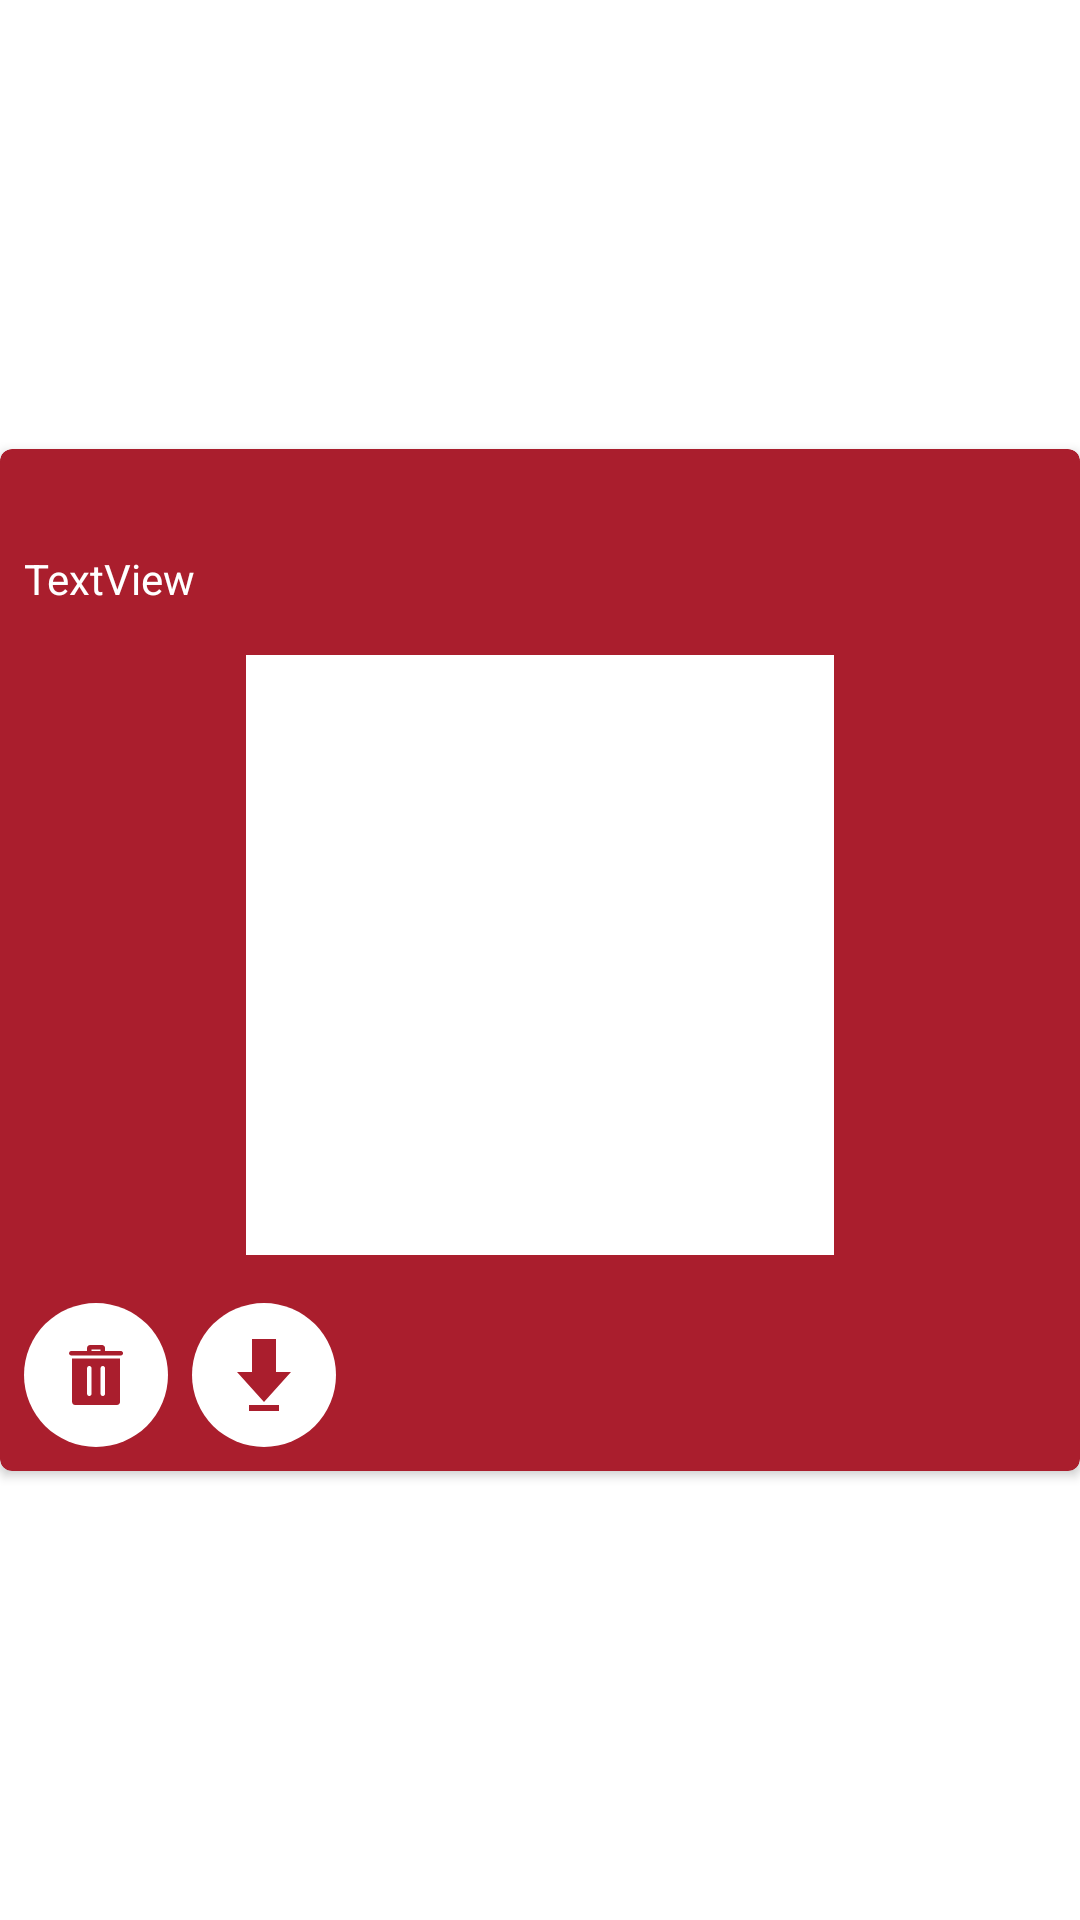

Where icons sit on this 1080*1920 app screen, as rect(x1, y1, x2, y2):
delete file: rect(24, 1303, 168, 1447)
save file: rect(192, 1303, 336, 1447)
